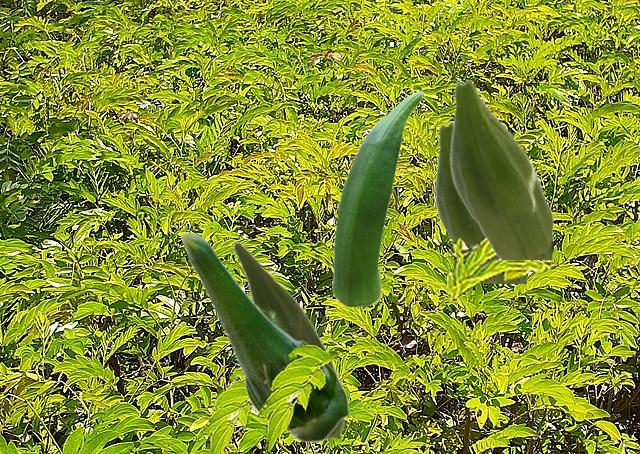okra: (180, 231, 349, 442), (232, 240, 343, 437), (331, 90, 423, 305), (449, 79, 552, 258), (434, 121, 526, 282)
